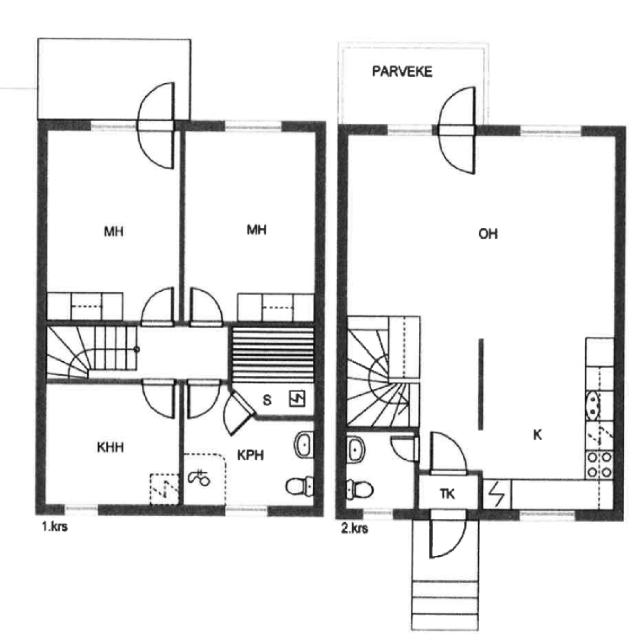door: (436, 83, 482, 178), (134, 80, 180, 173), (425, 424, 476, 477), (424, 508, 470, 563), (181, 374, 223, 424), (138, 374, 179, 424), (185, 282, 228, 328), (137, 283, 179, 326), (387, 431, 422, 466)
window: (512, 118, 592, 146), (216, 114, 290, 140), (511, 503, 584, 529), (82, 112, 140, 142), (218, 501, 274, 523), (381, 120, 436, 142), (351, 503, 403, 525), (59, 500, 106, 520)
zone: (342, 130, 608, 319), (41, 126, 183, 324), (182, 125, 320, 324), (479, 341, 616, 512), (42, 378, 182, 511), (182, 414, 321, 512), (344, 313, 422, 428), (228, 322, 318, 420), (340, 429, 418, 514), (415, 470, 482, 514)
